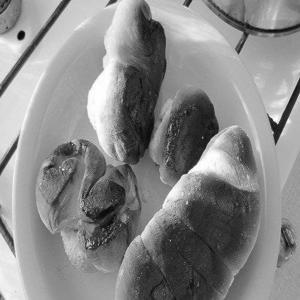bread: (21, 4, 275, 289)
